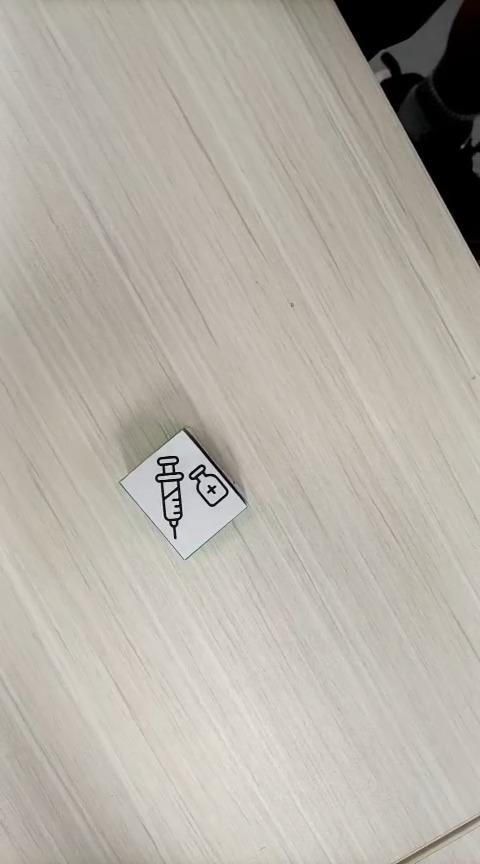antiseptic cream: (123, 427, 252, 559)
